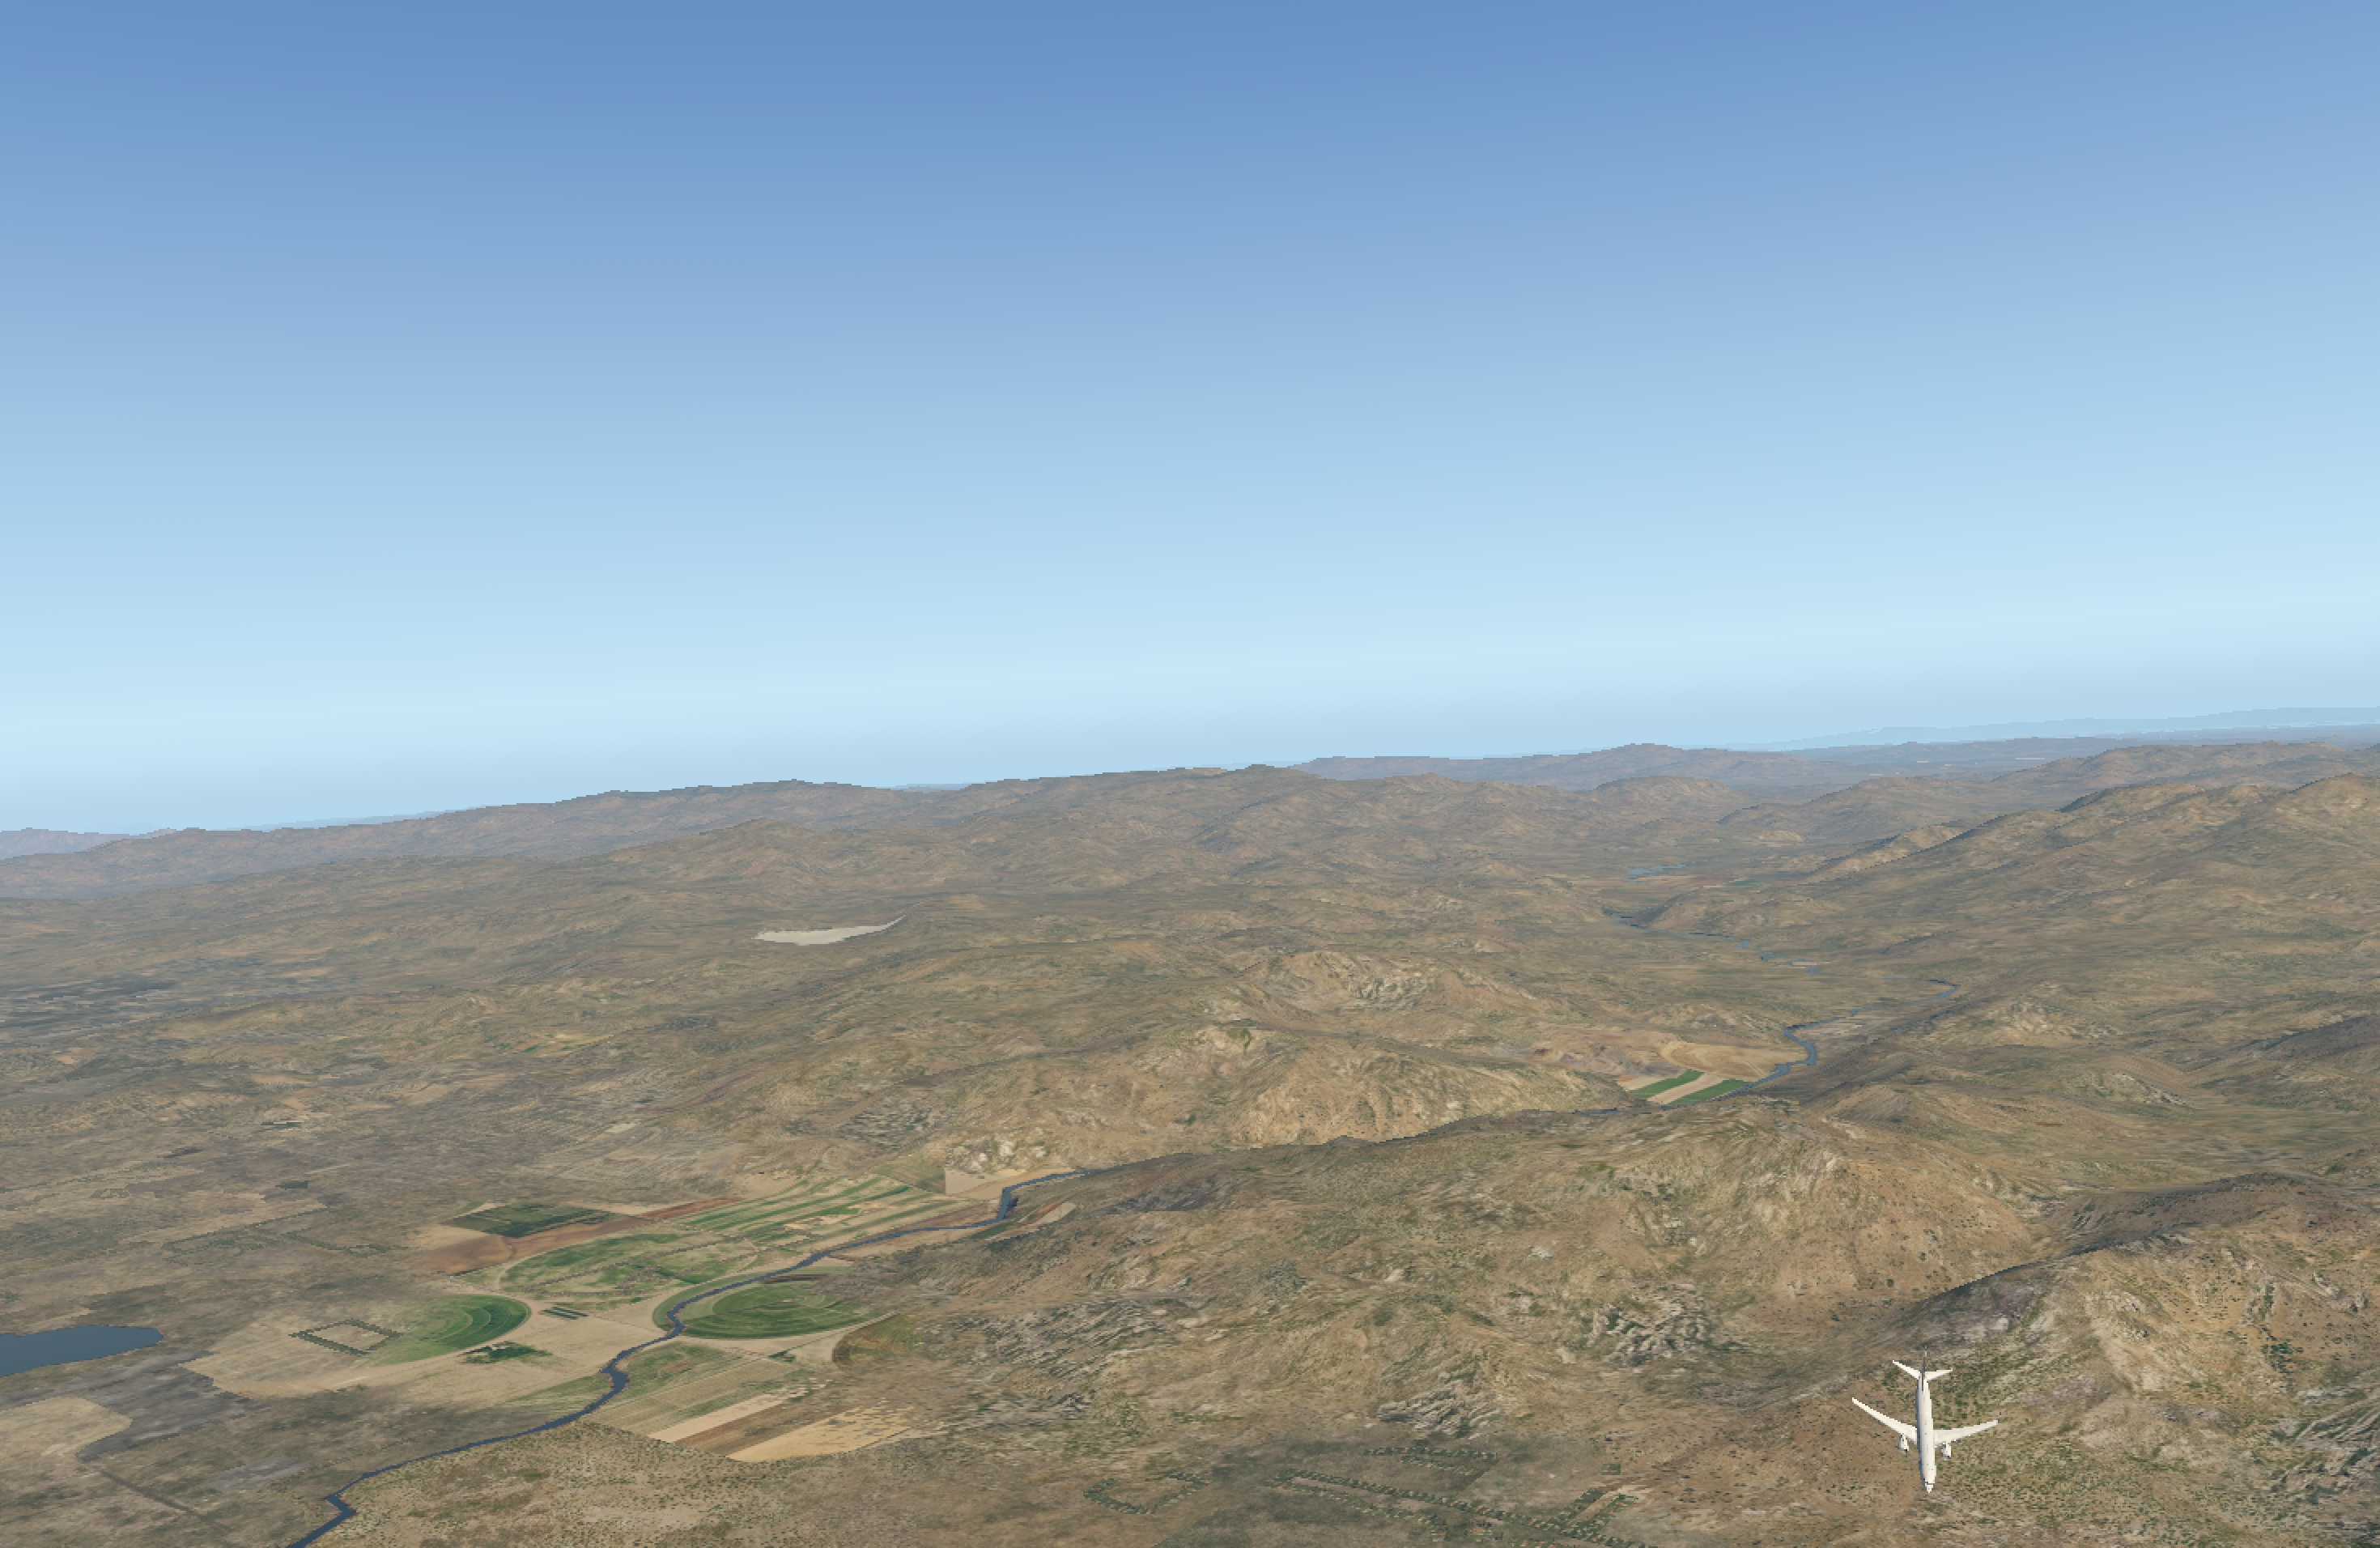aircraft: (1851, 1407, 1998, 1463)
